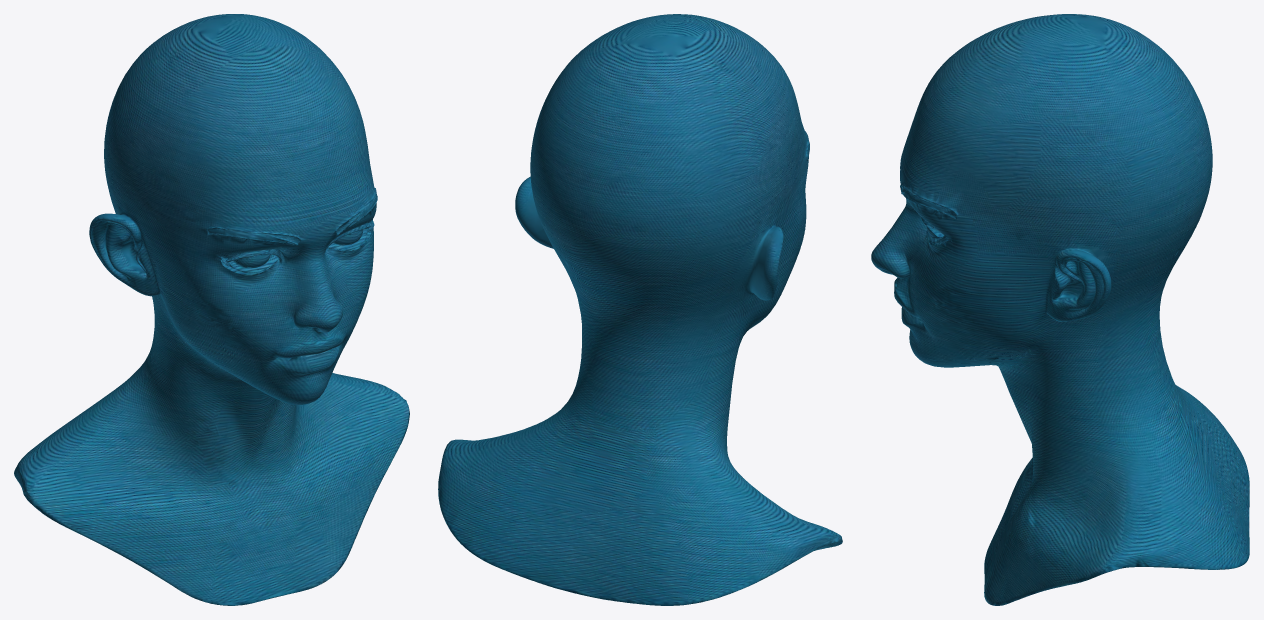
Rendered from holo-female.glb.
The picture shows the model from 3 angles, left to right: view 1: azimuth 30°, elevation 25°; view 2: azimuth 150°, elevation 25°; view 3: azimuth 270°, elevation 25°; orthographic projection. The views are drawn at different scales.
Parts seen in each view (by area): view 1: node_0; view 2: node_0; view 3: node_0.
Boxes of the visible parts, bbox=[...] form: node_0: bbox=[14, 14, 409, 605]; node_0: bbox=[438, 14, 842, 605]; node_0: bbox=[871, 14, 1249, 605].
Size of the model in its own units: 0.8484 by 1.15 by 0.7106.
1 material, 1 textured.
